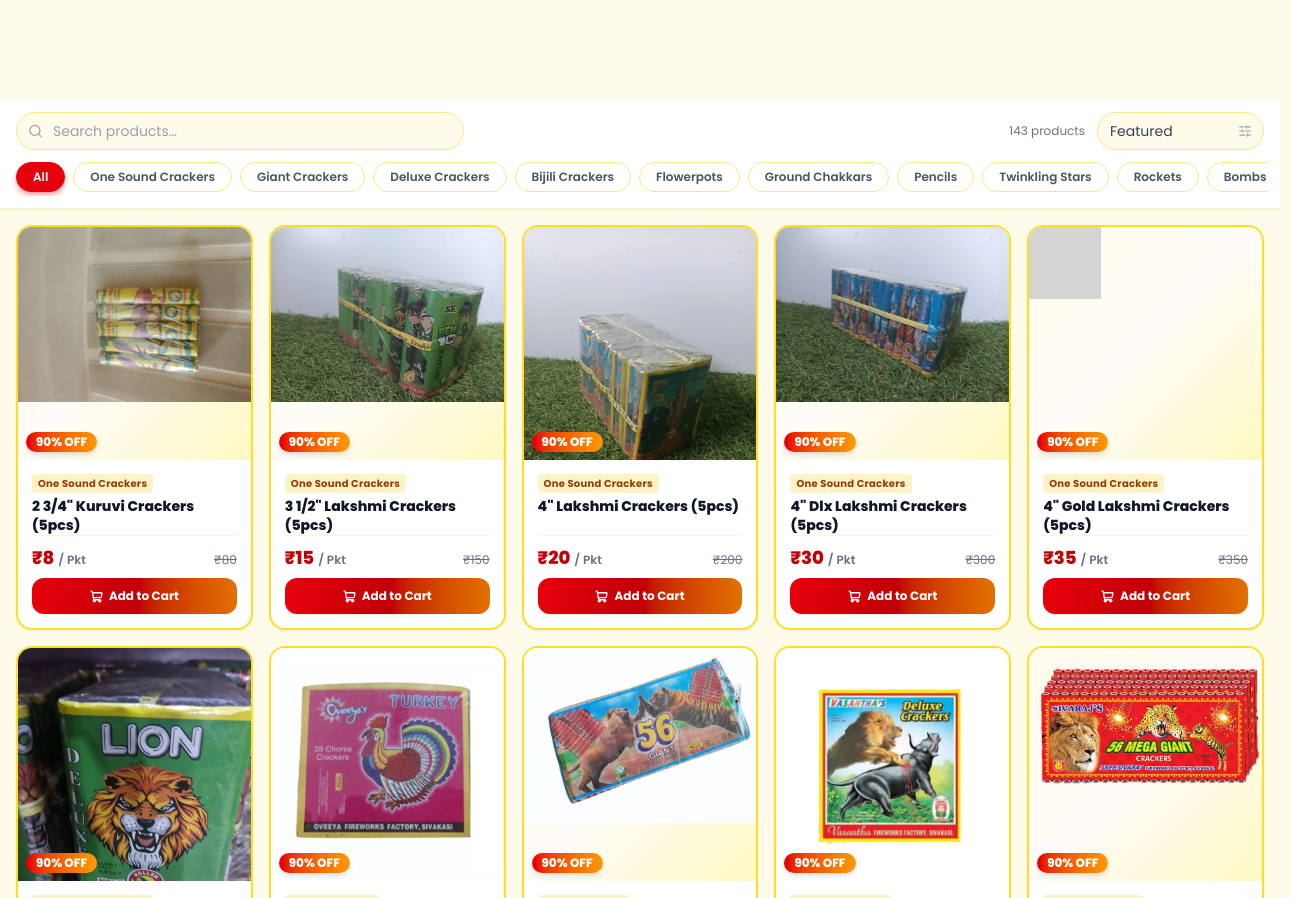
Scenario: 02: Product Filtering, Live Search & Sorting Interactions › shows 'No products found' empty state when search yields zero results
Type "zzz_nonexistent_product_xyz" into the search field labelled "Search products…" at (240, 131), box x1=16 y1=112 x2=464 y2=150
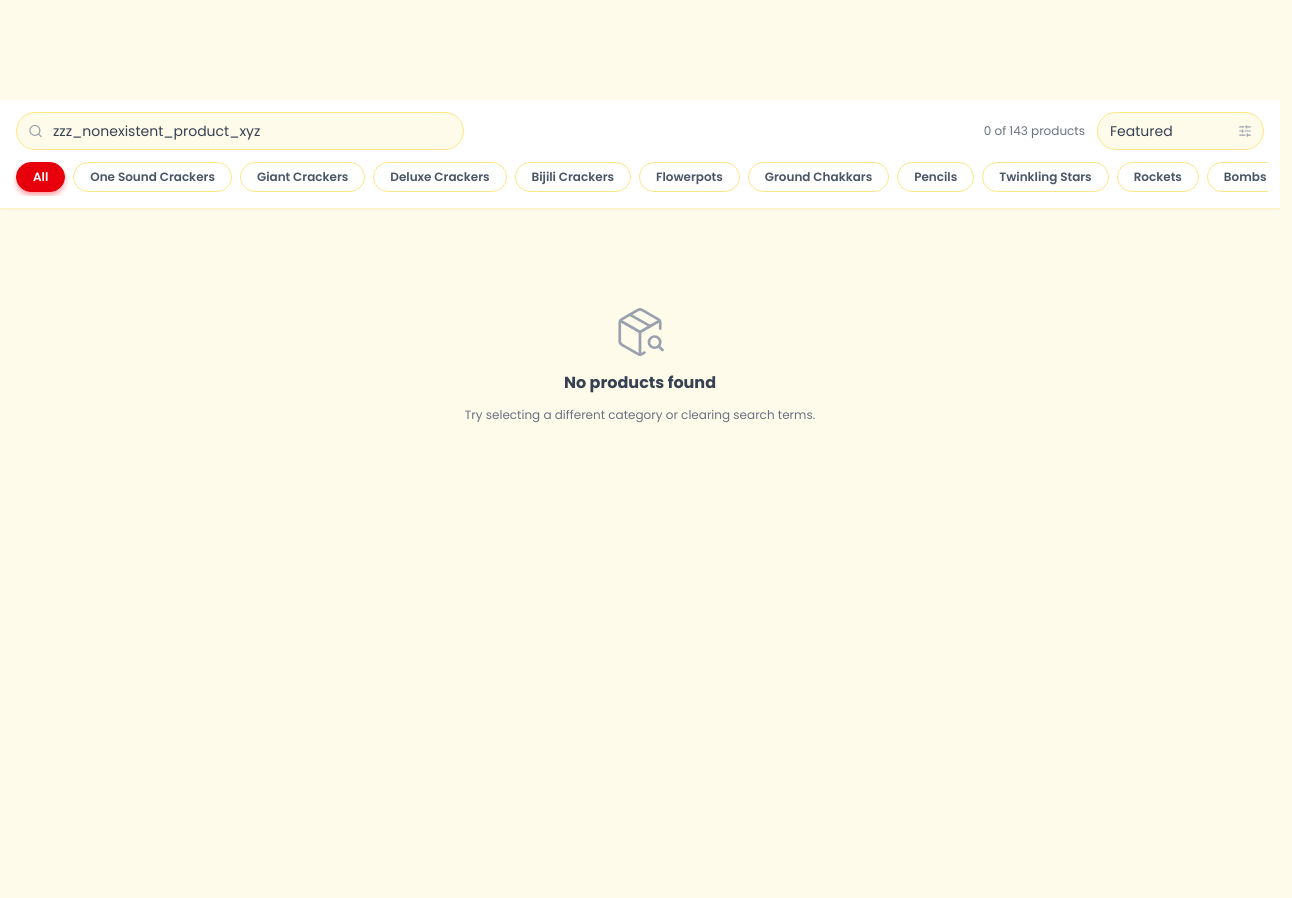
Check: the text "No products found" is shown, box x1=564 y1=371 x2=716 y2=395
Check: the text "Try selecting a different category or clearing search terms." is shown, box x1=465 y1=407 x2=815 y2=423
